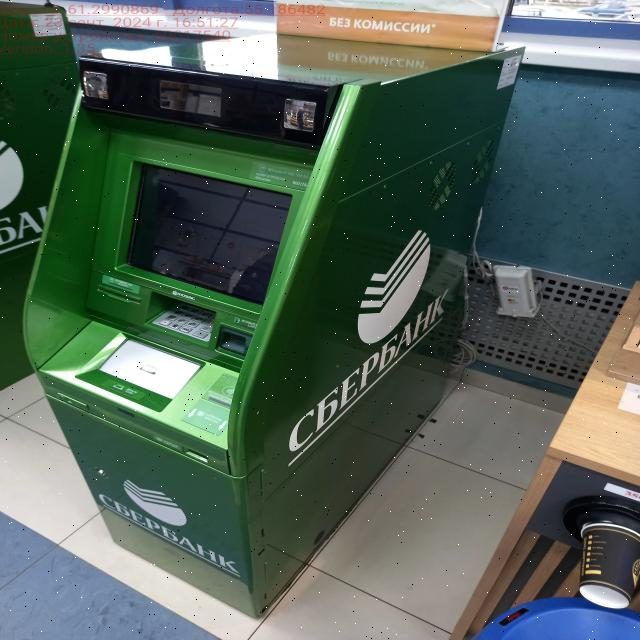bank: (51, 31, 530, 616), (0, 0, 89, 390)
